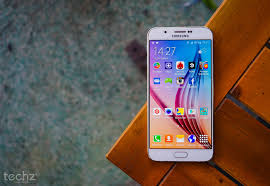samsung: (146, 22, 217, 163)
